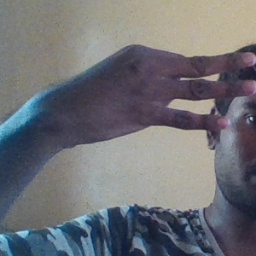K: (65, 44, 256, 142)
